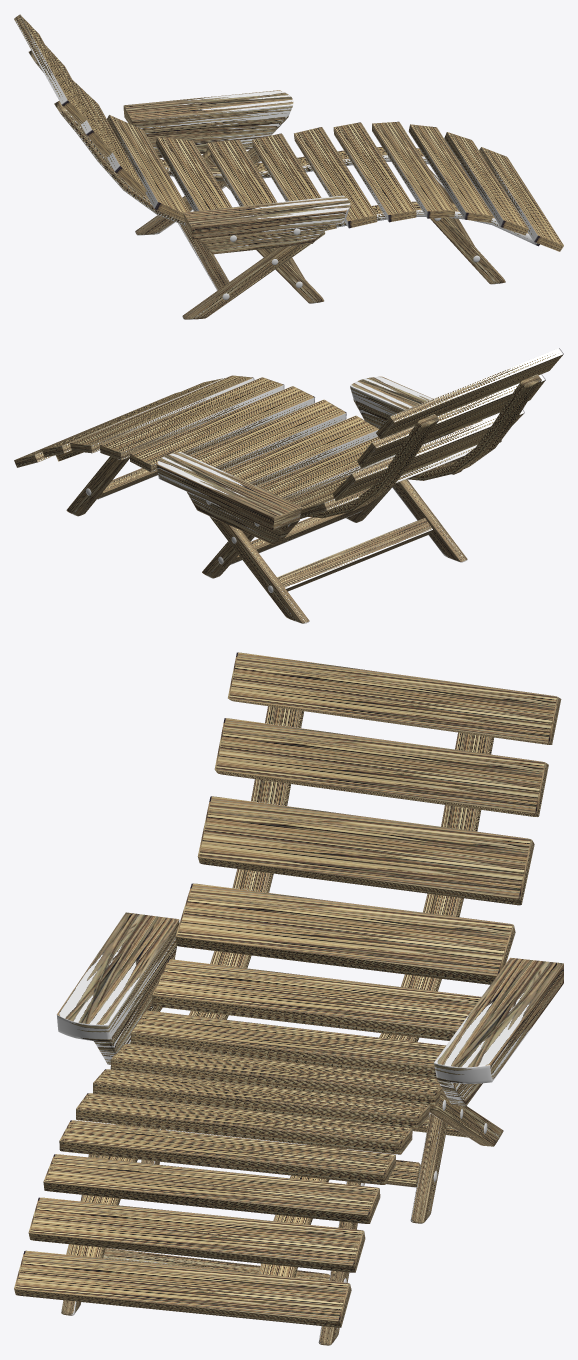
The model's file is bench.glb.
The picture shows the model from 3 angles, top to bottom: view 1: azimuth 30°, elevation 25°; view 2: azimuth 150°, elevation 25°; view 3: azimuth 270°, elevation 25°; orthographic projection. The views are drawn at different scales.
Visible parts, largest first — view 1: Cube.002; view 2: Cube.002; view 3: Cube.002.
Part boxes in pixels (bbox=[...]): Cube.002: bbox=[14, 14, 563, 319]; Cube.002: bbox=[14, 348, 563, 623]; Cube.002: bbox=[14, 652, 563, 1345].
Bounding box in the file's own units: 0.9376 × 0.4426 × 0.5957.
Materials: 2 (1 with a texture image).
